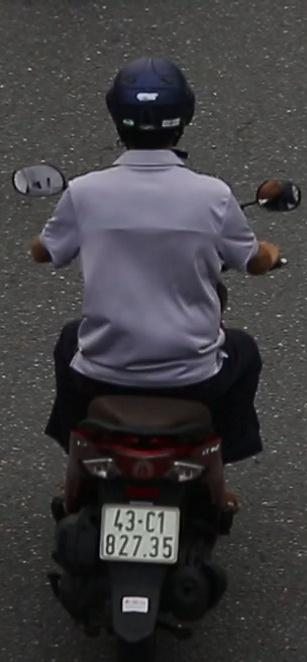LP: (96, 495, 184, 569)
helmet: (104, 52, 200, 177)
